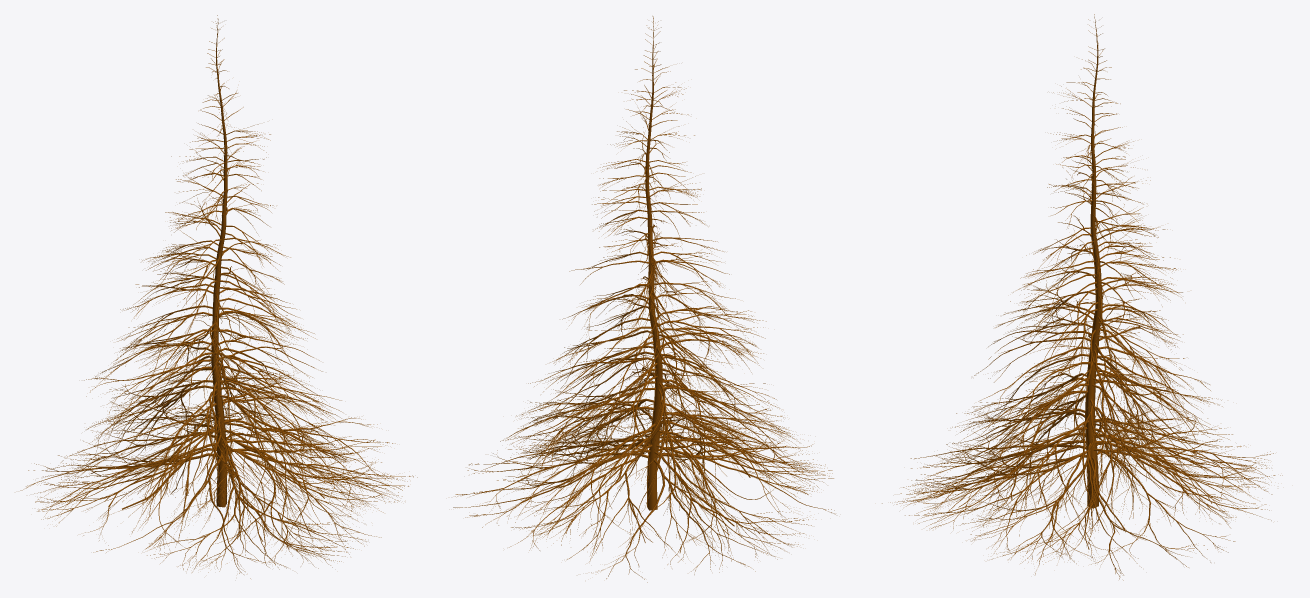
Rendered from pine_tree_low_poly.glb.
3 views of the same model, side by side, from view 1: azimuth 30°, elevation 25°; view 2: azimuth 150°, elevation 25°; view 3: azimuth 270°, elevation 25° (orthographic).
Visible parts, largest first — view 1: Tree.001; view 2: Tree.001; view 3: Tree.001.
Boxes of the visible parts, x1,y1,x2,y2 form: Tree.001: (20,15,417,578); Tree.001: (453,16,835,582); Tree.001: (882,14,1282,580).
Size of what is drawn, in the model's own units: 2506 by 3365 by 2663.
